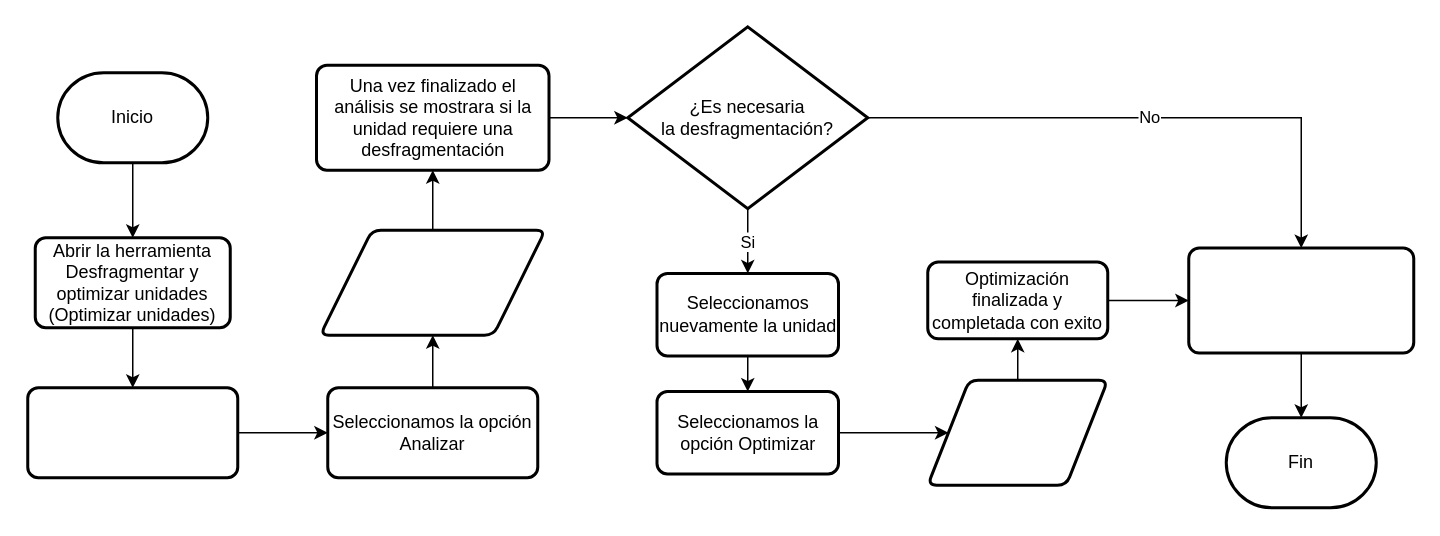
Some shapes in this 1440 by 536 pixel diagram are drawn without their labels. Here are the shapes that lost their labels. From the top down, the centre of each, then its label:
point (432, 282): Proceso de Análisis
point (1300, 300): No se requieren más optimizaciones por el momento, se puede finalizar el proceso
point (132, 432): Seleccionar la Unidad que se desea desfragmentar
point (1017, 432): Proceso de Optimización
